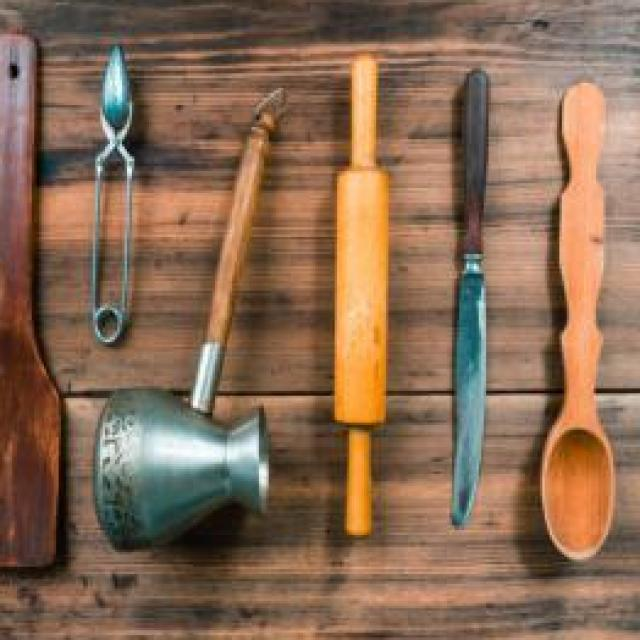knife: (437, 56, 492, 533)
